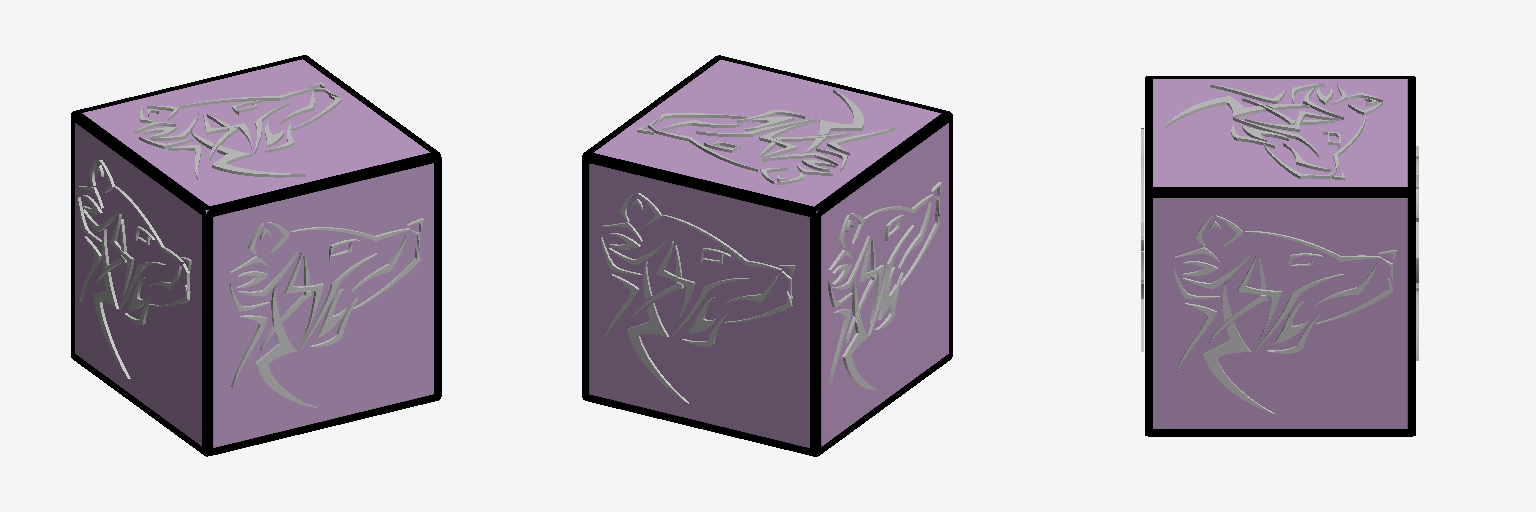
3 renders of one model, left to right at view 1: azimuth 30°, elevation 25°; view 2: azimuth 150°, elevation 25°; view 3: azimuth 270°, elevation 25°, orthographic.
Parts seen in each view (by area): view 1: Cube, BezierCurve.007_CUBezierCurve.007; view 2: Cube, BezierCurve.007_CUBezierCurve.007; view 3: Cube, BezierCurve.007_CUBezierCurve.007.
Boxes of the visible parts, box(x1,y1,x2,y2) form: Cube: box(71, 55, 441, 456); BezierCurve.007_CUBezierCurve.007: box(78, 82, 423, 407); Cube: box(582, 55, 952, 456); BezierCurve.007_CUBezierCurve.007: box(601, 90, 941, 403); Cube: box(1145, 76, 1415, 436); BezierCurve.007_CUBezierCurve.007: box(1141, 84, 1418, 413).
Size of the model in its own units: 1.02 by 1.03 by 1.02.
2 materials, 1 textured.